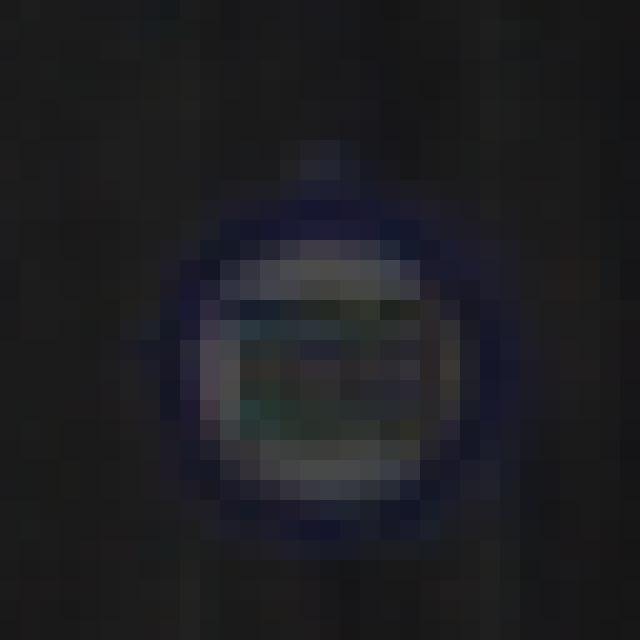SPEED LIMIT 100: (161, 193, 493, 539)
